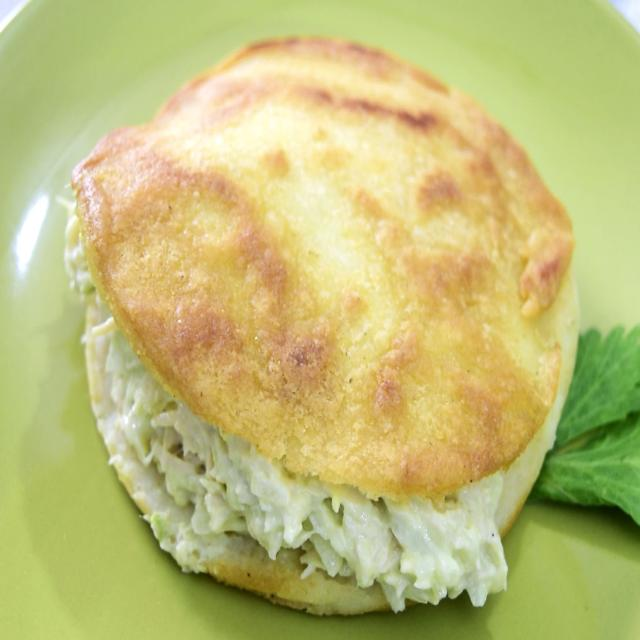arepa: (86, 18, 581, 492)
